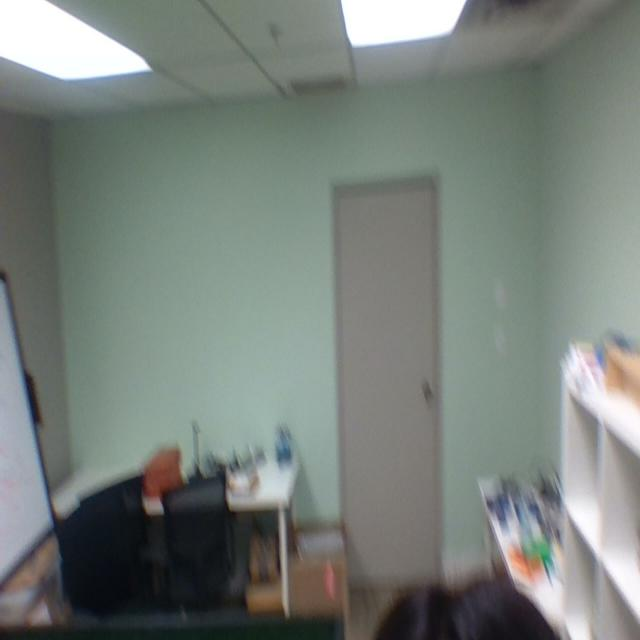black-chair: (61, 502, 145, 620), (162, 469, 234, 606)
